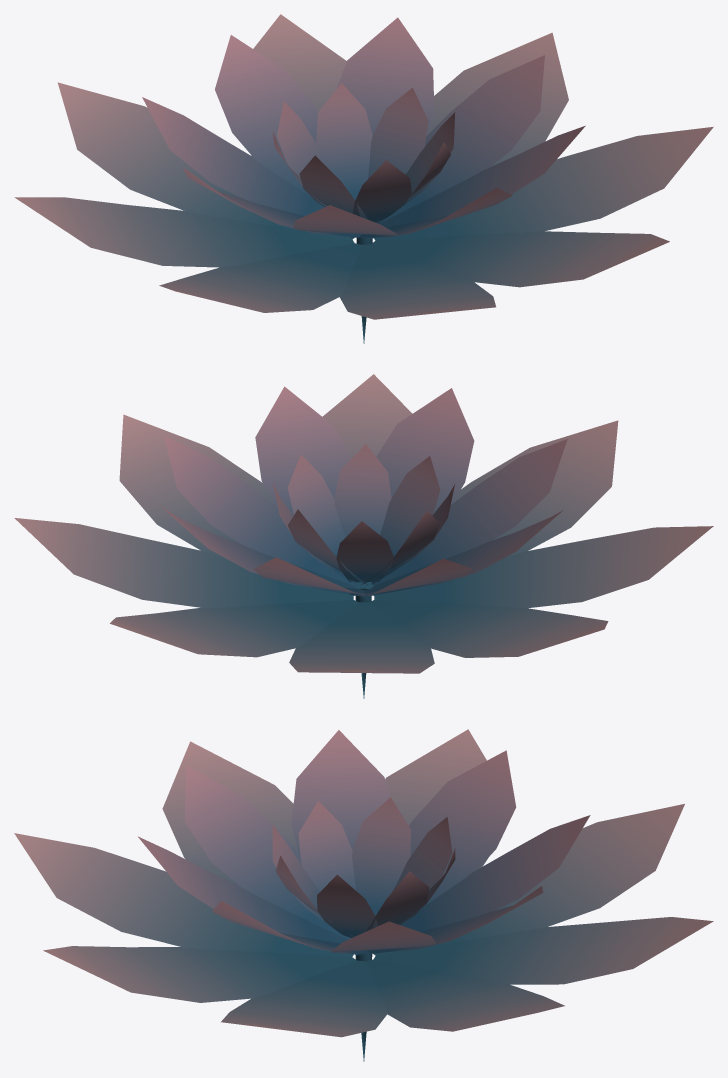
File: plants-cacti-succulents-pink-rosette_v4.glb
The picture shows the model from 3 angles, top to bottom: view 1: azimuth 30°, elevation 25°; view 2: azimuth 150°, elevation 25°; view 3: azimuth 270°, elevation 25°; orthographic projection. The views are drawn at different scales.
Visible parts, largest first — view 1: Pink Rosette_v4; view 2: Pink Rosette_v4; view 3: Pink Rosette_v4.
Part boxes in pixels (bbox=[...]): Pink Rosette_v4: bbox=[14, 14, 713, 343]; Pink Rosette_v4: bbox=[14, 374, 713, 698]; Pink Rosette_v4: bbox=[14, 729, 713, 1061].
Bounding box in the file's own units: 0.25 × 0.0939 × 0.25.
